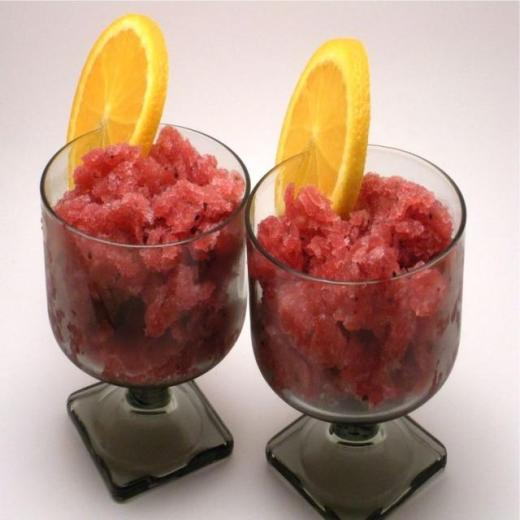Grape: (66, 13, 170, 191), (274, 39, 371, 220)
